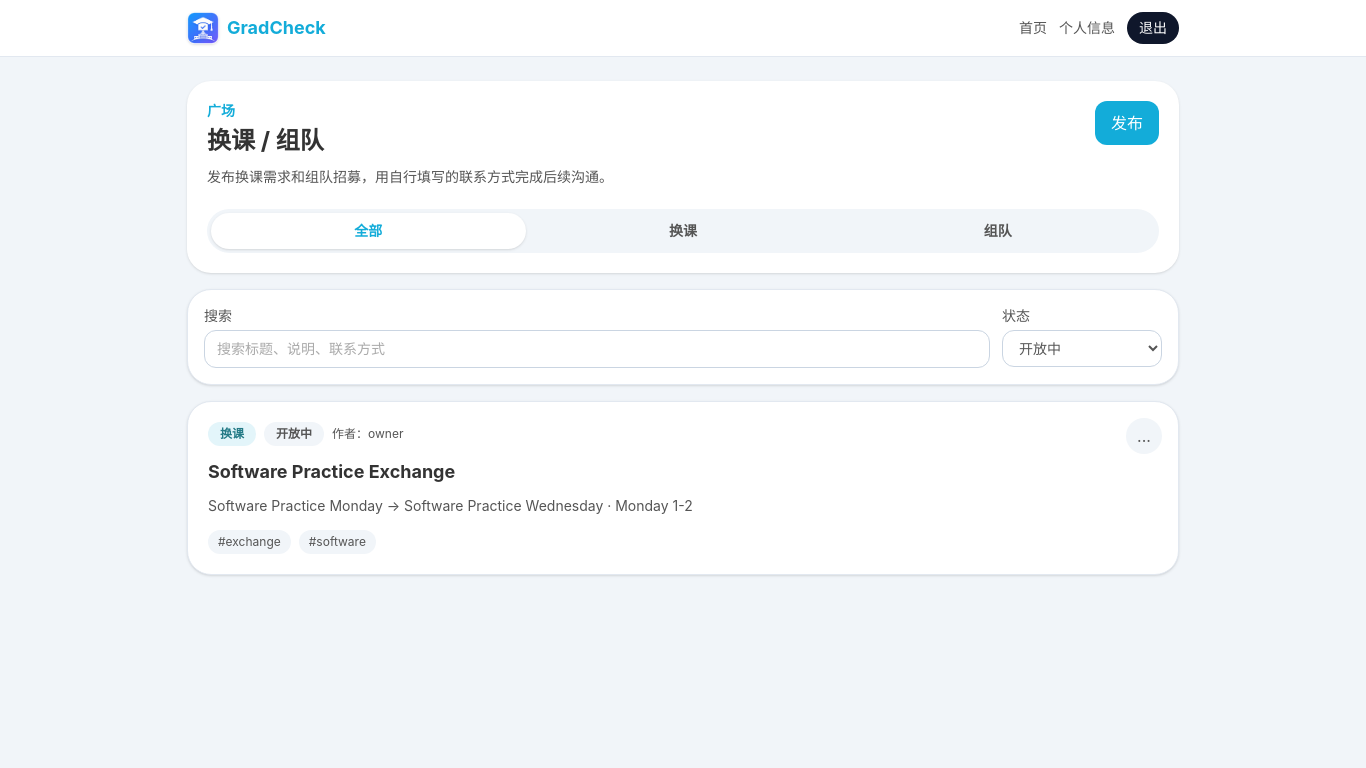
Test: PlazaPage › shows owner actions from a single top-right menu
What coordinates should you click on to do the following:
click the button with test id "plaza-post-actions-menu"
I would click on:
 (1144, 436)
Its box is 1126,418 -> 1162,454.
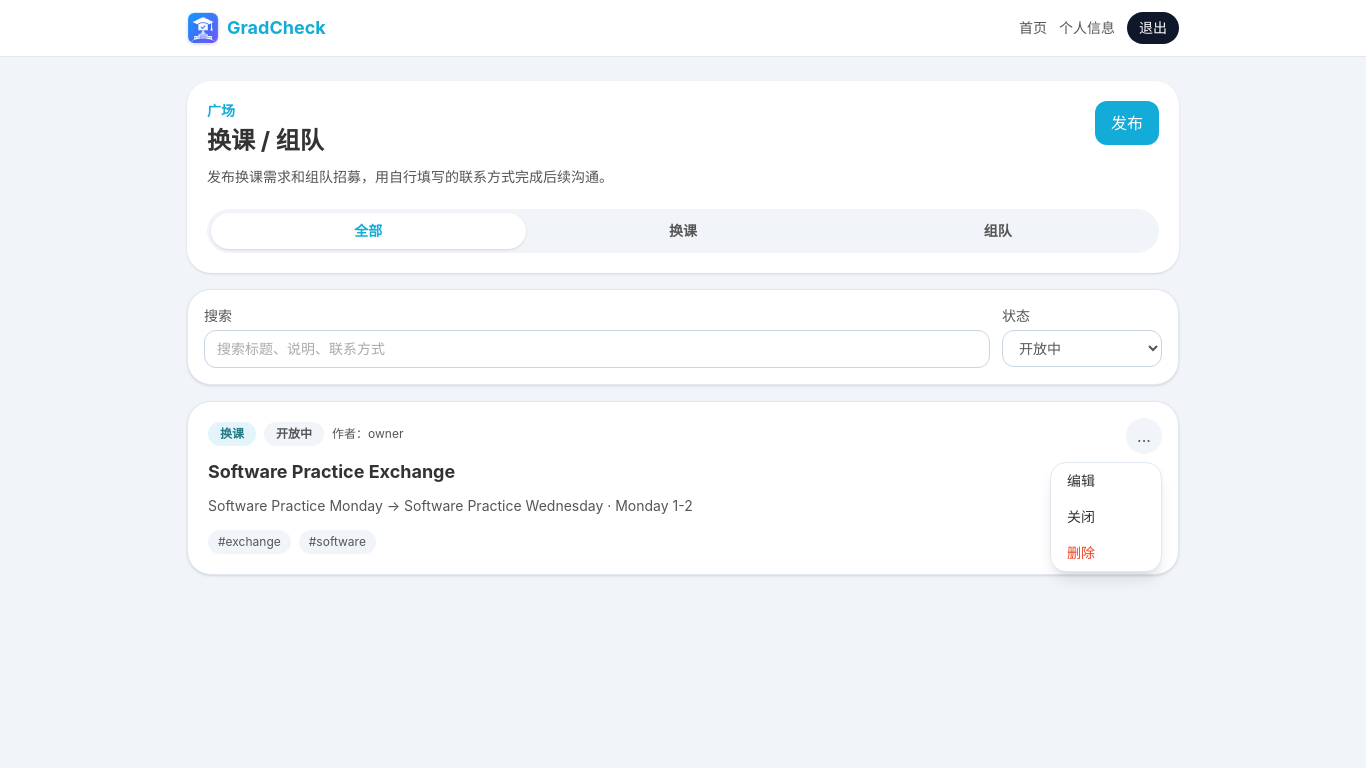
Now the button with test id "plaza-post-delete" is shown, box 1051,535 -> 1161,571
Now the text "编辑" is shown, box 1051,463 -> 1161,499
Now the text "关闭" is shown, box 1051,499 -> 1161,535
